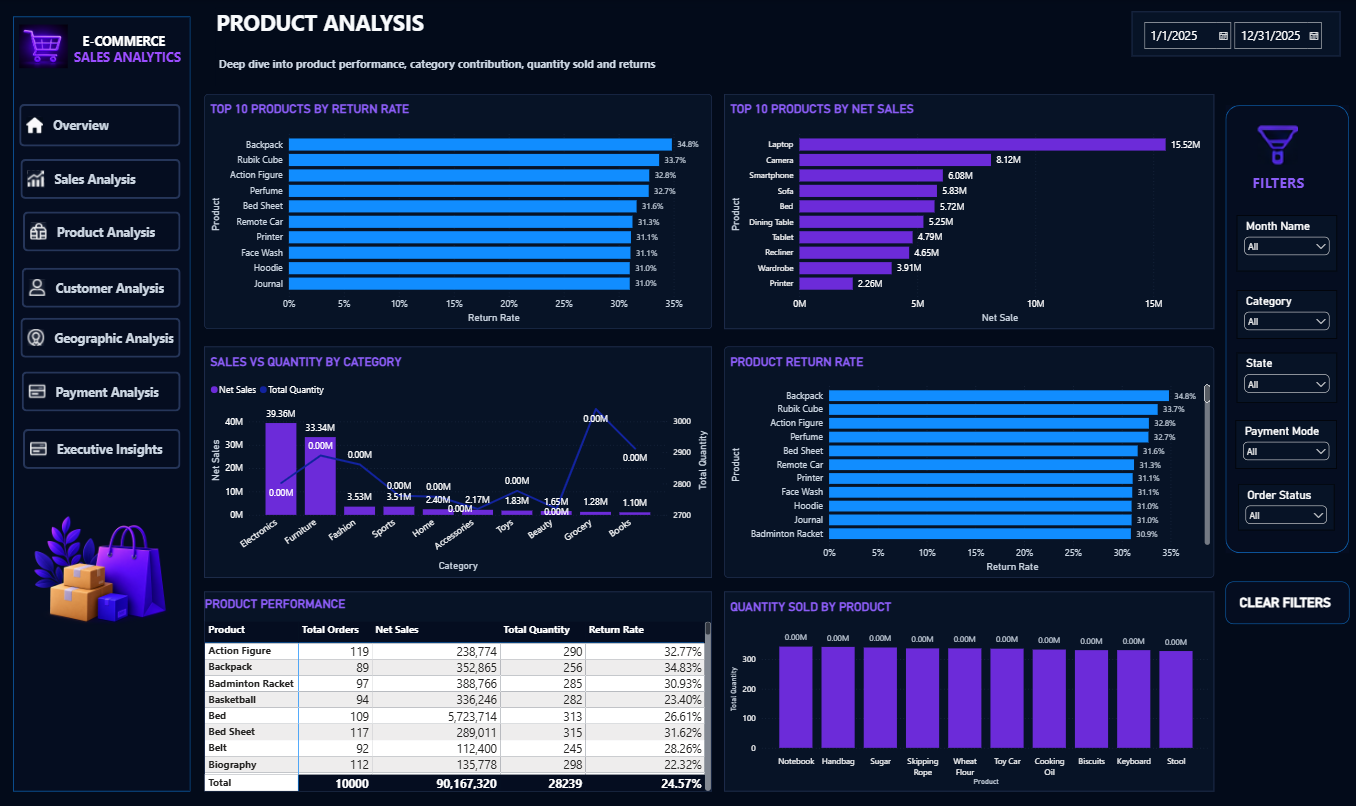

The dashboard page shown, as its layout file describes it:
{"tool":"powerbi","page":{"name":"Product Analysis","canvas":[2020,1200],"ordinal":2},"visuals":[{"type":"textbox","box":[322.8,66.8,755.1,61.2],"z":0},{"type":"shape","box":[22.3,26,263.5,1150.3],"z":1000},{"type":"actionButton","box":[31.5,155.8,239.3,63.1],"z":2000},{"type":"actionButton","box":[33.4,237.5,237.5,59.4],"z":3000},{"type":"actionButton","box":[35.3,398.9,235.6,59.4],"z":4000},{"type":"actionButton","box":[33.4,473.1,237.5,59.4],"z":5000},{"type":"actionButton","box":[35.3,552.9,235.6,59.4],"z":6000},{"type":"textbox","box":[322.8,13,736.6,53.8],"z":7000},{"type":"textbox","box":[79,36.5,203.6,91.2],"z":8000},{"type":"shape","box":[1821.3,156.9,183,664.5],"z":9000},{"type":"slicer","fields":{"Values":["orders.State"]},"box":[1838.8,525.1,148.4,74.2],"z":10000},{"type":"slicer","fields":{"Values":["orders.Category"]},"box":[1838.8,431.4,148.4,72.4],"z":11000},{"type":"slicer","fields":{"Values":["orders.Payment_Mode"]},"box":[1836.6,625.3,150.3,71.9],"z":12000},{"type":"slicer","fields":{"Values":["orders.Order_Status"]},"box":[1840.9,718.9,142.9,68.6],"z":13000},{"type":"slicer","fields":{"Values":["orders.Month_Name"]},"box":[1838.8,320.3,148.4,83.5],"z":14000},{"type":"textbox","box":[1857.2,252.3,120.3,45.3],"z":15000},{"type":"slicer","fields":{"Values":["orders.Order_Date"]},"box":[1683,18.1,309.7,66.4],"z":16000},{"type":"clusteredBarChart","title":"TOP 10 PRODUCTS BY NET SALES","fields":{"Category":["orders.Product"],"Y":["orders.Net Sales"]},"box":[1077.9,141,727.3,348.8],"z":17000},{"type":"actionButton","box":[37.1,315.4,233.8,59.4],"z":18000},{"type":"image","box":[24.1,727.3,261.4,249.3],"z":19000},{"type":"image","box":[1841.8,187,114.6,58.3],"z":20000},{"type":"image","box":[31.5,37.1,72.4,66.8],"z":21000},{"type":"clusteredBarChart","title":"PRODUCT RETURN RATE","fields":{"Category":["orders.Product"],"Y":["orders.Return Rate"]},"box":[1077.9,515.8,727.3,343.2],"z":22000},{"type":"clusteredColumnChart","title":"QUANTITY SOLD BY PRODUCT","fields":{"Category":["orders.Product"],"Y":["orders.Total Quantity"]},"box":[1077.9,879.4,727.3,296.8],"z":23000},{"type":"lineClusteredColumnComboChart","title":"SALES VS QUANTITY BY CATEGORY","fields":{"Category":["orders.Category"],"Y":["orders.Net Sales"],"Y2":["orders.Total Quantity"]},"box":[306.1,515.8,753.3,343.2],"z":24000},{"type":"pivotTable","title":"PRODUCT PERFORMANCE","fields":{"Values":["orders.Total Orders","orders.Net Sales","orders.Total Quantity","orders.Return Rate"],"Rows":["orders.Product"]},"box":[306.1,879.4,753.3,296.8],"z":25000},{"type":"shape","title":"CLEAR FILTERS","box":[1821.9,864.6,183.7,63.1],"z":26000},{"type":"clusteredBarChart","title":"TOP 10 PRODUCTS BY RETURN RATE ","fields":{"Y":["orders.Return Rate"],"Category":["orders.Product"]},"box":[306.1,141,753.3,348.8],"z":27000},{"type":"actionButton","box":[37.1,638.2,233.8,59.4],"z":28000}]}

Visuals, with their boxes in screenshot pixels (x1, y1, x2, y2), scaled from the page's 2020x1200 canvas onto the 1356x806 screenshot:
textbox: bbox=[217, 45, 724, 86]
shape: bbox=[15, 17, 192, 790]
actionButton: bbox=[21, 105, 182, 147]
actionButton: bbox=[22, 160, 182, 199]
actionButton: bbox=[24, 268, 182, 308]
actionButton: bbox=[22, 318, 182, 358]
actionButton: bbox=[24, 371, 182, 411]
textbox: bbox=[217, 9, 711, 45]
textbox: bbox=[53, 25, 190, 86]
shape: bbox=[1223, 105, 1345, 552]
slicer - orders.State: bbox=[1234, 353, 1334, 403]
slicer - orders.Category: bbox=[1234, 290, 1334, 338]
slicer - orders.Payment_Mode: bbox=[1233, 420, 1334, 468]
slicer - orders.Order_Status: bbox=[1236, 483, 1332, 529]
slicer - orders.Month_Name: bbox=[1234, 215, 1334, 271]
textbox: bbox=[1247, 169, 1327, 200]
slicer - orders.Order_Date: bbox=[1130, 12, 1338, 57]
"TOP 10 PRODUCTS BY NET SALES" clusteredBarChart: bbox=[724, 95, 1212, 329]
actionButton: bbox=[25, 212, 182, 252]
image: bbox=[16, 489, 192, 656]
image: bbox=[1236, 126, 1313, 165]
image: bbox=[21, 25, 70, 70]
"PRODUCT RETURN RATE" clusteredBarChart: bbox=[724, 346, 1212, 577]
"QUANTITY SOLD BY PRODUCT" clusteredColumnChart: bbox=[724, 591, 1212, 790]
"SALES VS QUANTITY BY CATEGORY" lineClusteredColumnComboChart: bbox=[205, 346, 711, 577]
"PRODUCT PERFORMANCE" pivotTable: bbox=[205, 591, 711, 790]
"CLEAR FILTERS" shape: bbox=[1223, 581, 1346, 623]
"TOP 10 PRODUCTS BY RETURN RATE " clusteredBarChart: bbox=[205, 95, 711, 329]
actionButton: bbox=[25, 429, 182, 469]
